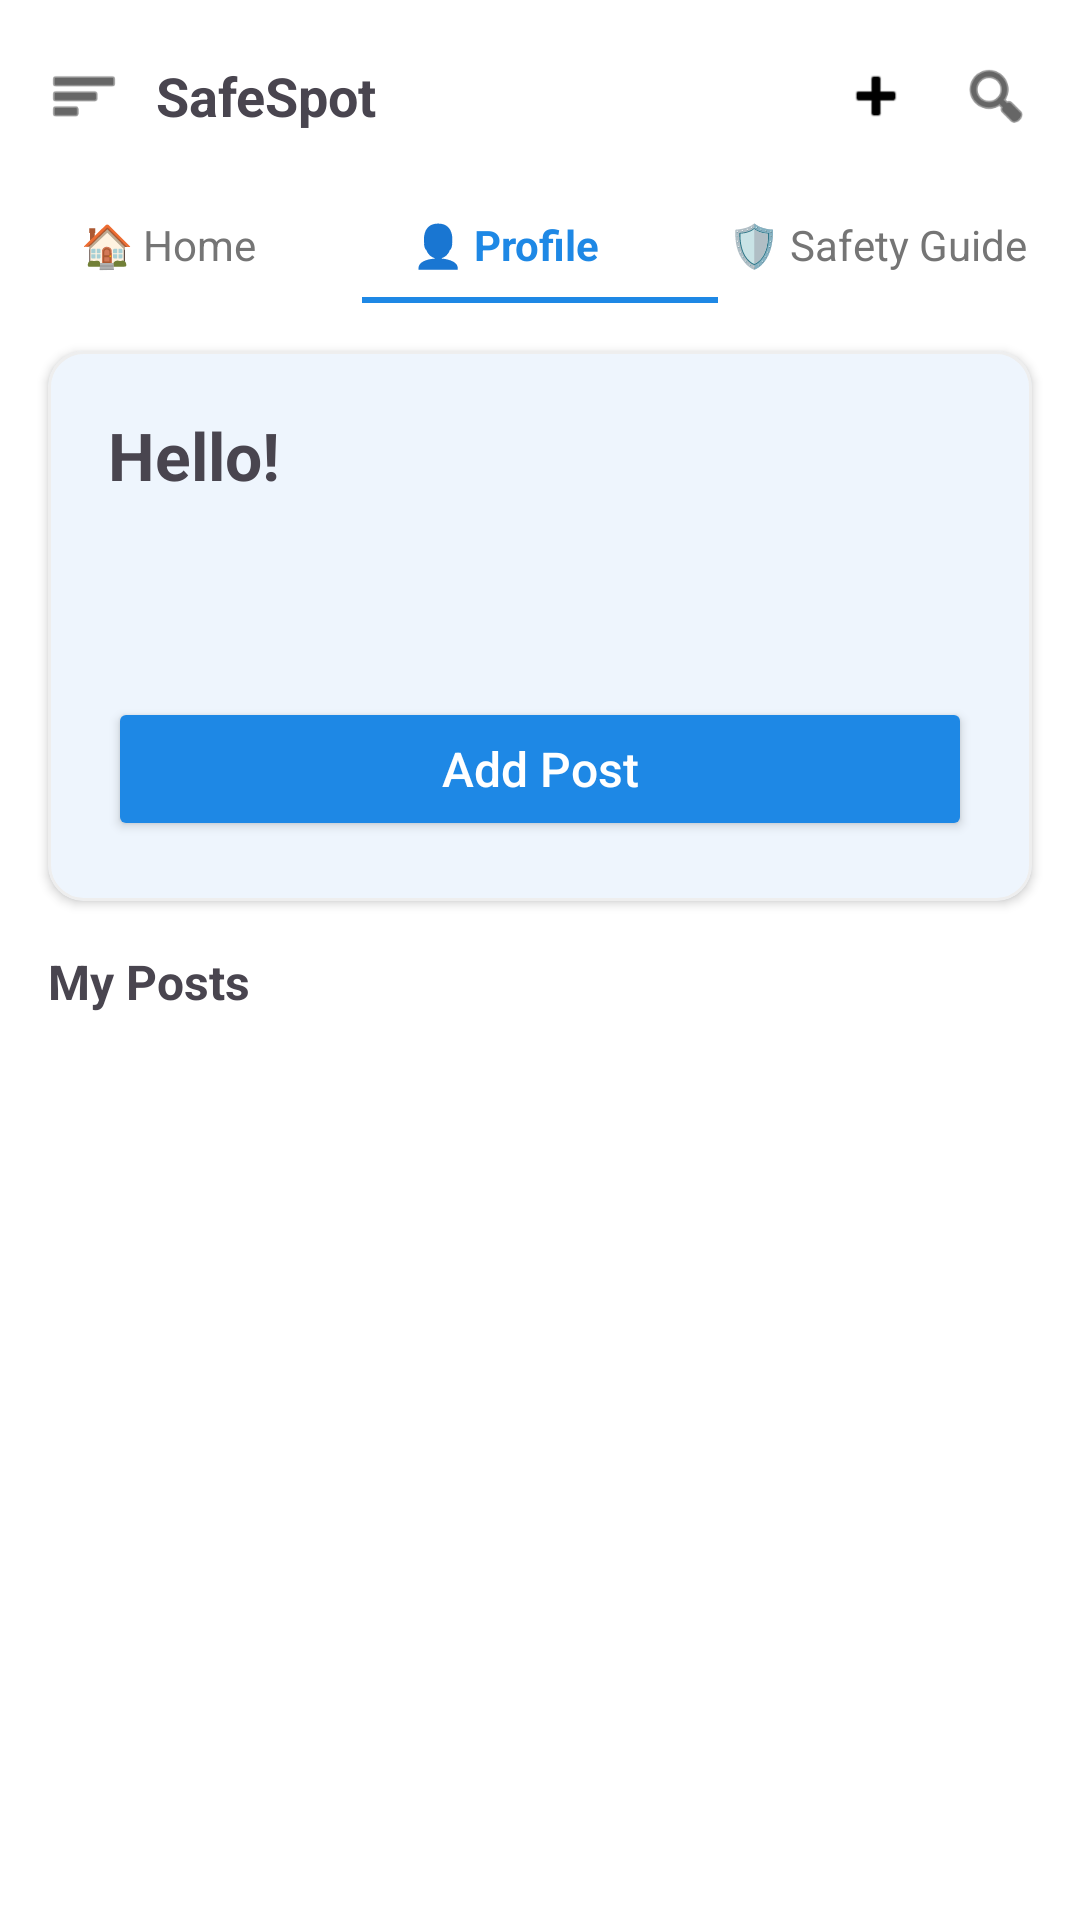

Icons on this 1080px x 1920px Android screen, each with its box as (x1, y1, x2, y2):
add: (855, 76, 897, 116)
search: (969, 70, 1023, 123)
sort by size: (53, 76, 115, 117)
